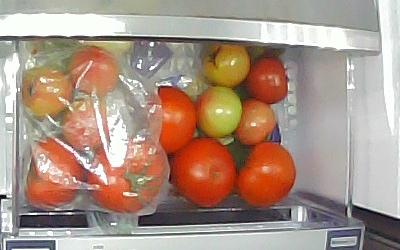tomato: (170, 138, 236, 209), (238, 141, 297, 209), (197, 86, 242, 138), (198, 43, 250, 87), (247, 56, 289, 103), (234, 97, 276, 144)
tomato_vinyl: (87, 136, 166, 213), (25, 138, 84, 208), (139, 86, 196, 155), (61, 101, 113, 150), (22, 67, 71, 117), (68, 48, 117, 98)
